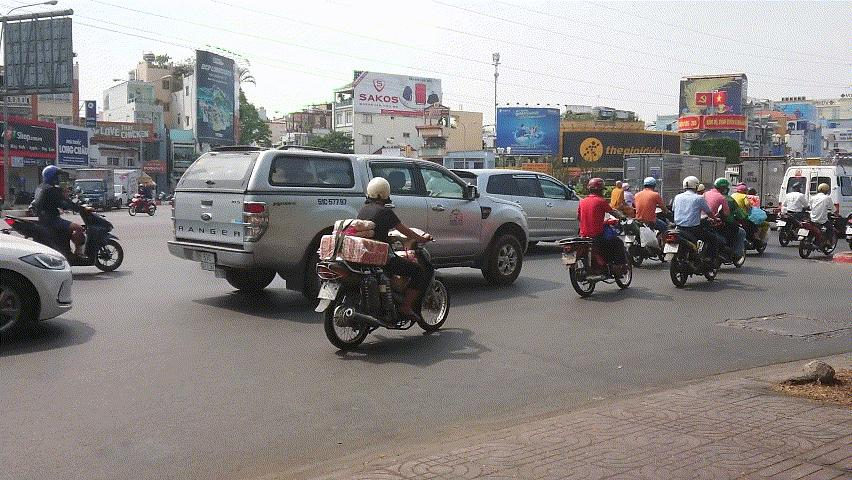driver: (313, 176, 451, 350), (1, 164, 125, 273), (557, 176, 633, 298), (661, 174, 724, 288), (623, 176, 673, 268), (797, 183, 841, 260), (777, 182, 810, 247)
helmet: (364, 177, 394, 208), (41, 164, 66, 186), (588, 177, 608, 197), (682, 174, 700, 195), (713, 177, 730, 195), (644, 177, 657, 192), (817, 183, 830, 196), (792, 182, 804, 193)
